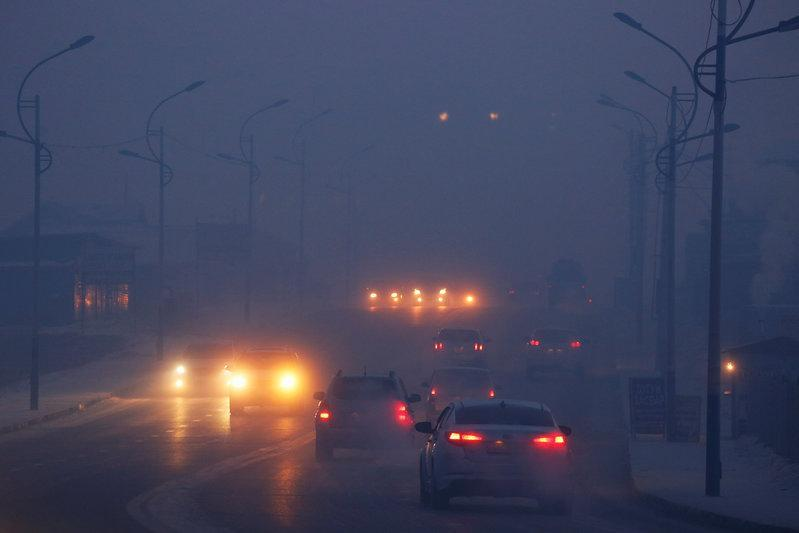airplane: (187, 341, 296, 404), (226, 348, 311, 412), (133, 346, 238, 397)
boat: (187, 341, 296, 404), (226, 348, 311, 412), (133, 346, 238, 397), (429, 327, 491, 364)
bus: (187, 341, 296, 404), (251, 341, 339, 415), (424, 325, 498, 412), (226, 348, 311, 412), (417, 361, 497, 425), (523, 328, 589, 371), (429, 327, 492, 369), (524, 328, 588, 350)
car: (175, 386, 448, 506), (219, 351, 433, 456), (119, 435, 342, 530), (120, 389, 319, 493), (339, 386, 505, 501), (415, 398, 570, 513), (404, 357, 532, 477), (347, 372, 465, 456), (314, 369, 415, 464), (417, 338, 497, 430), (187, 341, 296, 404), (403, 374, 499, 445), (251, 341, 339, 415), (421, 322, 498, 394), (310, 367, 372, 455), (226, 348, 311, 412), (325, 372, 409, 429), (517, 315, 611, 365), (410, 366, 467, 435), (282, 359, 343, 423), (313, 367, 394, 413), (522, 328, 589, 373), (427, 364, 495, 406), (544, 256, 594, 312), (341, 368, 414, 406), (428, 384, 494, 426), (407, 388, 456, 444), (517, 341, 582, 383), (430, 346, 492, 384), (429, 327, 491, 364), (307, 374, 335, 452), (520, 400, 573, 440), (310, 369, 359, 409), (329, 367, 398, 394), (311, 368, 339, 427), (526, 317, 589, 342), (523, 328, 588, 350), (523, 340, 558, 380), (521, 334, 579, 358), (380, 373, 417, 410), (543, 331, 589, 360), (388, 377, 413, 429), (546, 281, 592, 308), (406, 390, 431, 439), (408, 384, 438, 423), (520, 334, 555, 366), (438, 328, 491, 349), (311, 389, 330, 445), (423, 382, 448, 423), (542, 405, 572, 439), (402, 382, 425, 422), (385, 369, 410, 402), (514, 328, 546, 350), (523, 329, 560, 348), (395, 376, 420, 404), (395, 394, 416, 424), (527, 326, 571, 340), (527, 336, 571, 350), (554, 334, 591, 350), (391, 400, 412, 427), (311, 390, 326, 422), (423, 384, 439, 413), (525, 334, 550, 351), (405, 391, 422, 414), (519, 327, 543, 343), (473, 330, 493, 348), (406, 387, 424, 406), (522, 331, 541, 347), (404, 390, 421, 403)
kite: (159, 162, 173, 187)
parking meter: (312, 390, 329, 424), (392, 401, 412, 428)
person: (413, 363, 495, 433), (228, 343, 306, 415), (546, 256, 593, 309), (428, 327, 492, 365), (313, 391, 336, 460), (411, 392, 437, 444), (387, 370, 413, 421), (416, 385, 440, 433), (424, 384, 448, 431), (386, 368, 407, 399), (415, 385, 432, 420), (380, 370, 398, 399), (425, 384, 439, 420), (383, 367, 402, 391), (448, 395, 464, 420), (405, 391, 422, 414), (525, 331, 543, 350)
traffic light: (425, 383, 440, 418), (392, 401, 412, 427), (720, 353, 735, 387), (721, 367, 733, 397)
train: (223, 343, 308, 411)
truck: (368, 325, 503, 433), (161, 340, 323, 425), (332, 367, 462, 461), (312, 371, 413, 457), (187, 341, 296, 404), (424, 325, 497, 418), (226, 344, 314, 412), (148, 344, 256, 398), (413, 363, 495, 433), (426, 326, 493, 377), (522, 328, 589, 373), (427, 364, 495, 406), (431, 326, 485, 358), (523, 329, 588, 351)
tv: (223, 343, 308, 411)
umbrella: (226, 345, 309, 413)
